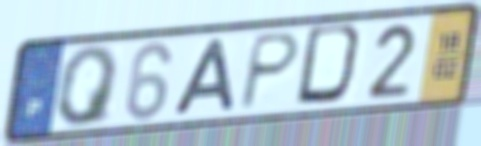2: (367, 22, 420, 102)
6: (122, 38, 174, 124)
A: (170, 36, 239, 119)
D: (292, 21, 371, 109)
P: (235, 30, 304, 114)
Q: (55, 43, 123, 130)
